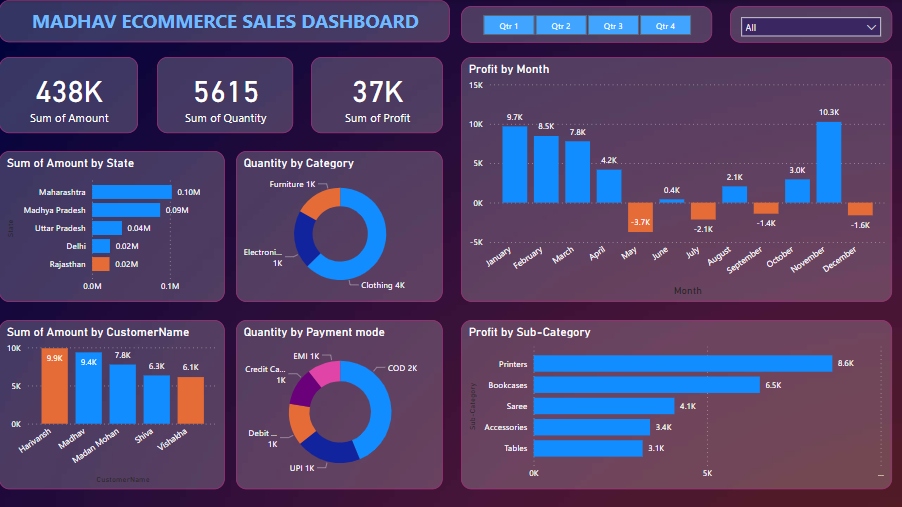

The page's visual inventory and layout, read from the dashboard file:
{"tool":"powerbi","page":{"name":"Page 1","canvas":[1280,720],"ordinal":0},"visuals":[{"type":"textbox","box":[0,0,639.4,60.5],"z":0},{"type":"columnChart","title":"Profit by Month","fields":{"Y":["Details.Profit"],"Category":["Orders.Order Date.Variation.Date Hierarchy.Month"]},"box":[654.8,80.8,610.9,347.2],"z":1000},{"type":"barChart","title":"Profit by Sub-Category","fields":{"Y":["Details.Profit"],"Category":["Details.Sub-Category"]},"box":[654.8,453.5,610.9,239.5],"z":2000},{"type":"donutChart","title":"Quantity by Category","fields":{"Y":["Details.Quantity"],"Category":["Details.Category"]},"box":[335.9,214,293.4,214],"z":2001},{"type":"donutChart","title":"Quantity by Payment mode","fields":{"Y":["Details.Quantity"],"Category":["Details.PaymentMode"]},"box":[335.9,453.5,293.4,239.5],"z":2002},{"type":"card","fields":{"Values":["Details.Amount"]},"box":[0,80.8,197,107.7],"z":2003},{"type":"card","fields":{"Values":["Details.Quantity"]},"box":[223.9,80.8,192.8,107.7],"z":2004},{"type":"card","fields":{"Values":["Details.Profit"]},"box":[442.2,80.8,187.1,107.7],"z":2005},{"type":"barChart","title":"Sum of Amount by State","fields":{"Category":["Orders.State"],"Y":["Details.Amount"]},"box":[0,214,320.3,214],"z":2006},{"type":"columnChart","fields":{"Category":["Orders.CustomerName"],"Y":["Details.Amount"]},"box":[0,454,320,240],"z":2007},{"type":"slicer","fields":{"Values":["Orders.Order Date.Variation.Date Hierarchy.Quarter"]},"box":[654.8,8.5,355.7,52.4],"z":2008},{"type":"slicer","fields":{"Values":["Orders.State"]},"box":[1036.1,8.5,229.6,52.4],"z":2009}]}

Visuals, with their boxes in screenshot pixels (x1, y1, x2, y2), scaled from the page's 1280x720 canvas onto the 902x507 screenshot:
textbox: pyautogui.locateOnScreen(0, 0, 451, 43)
"Profit by Month" columnChart: pyautogui.locateOnScreen(461, 57, 892, 301)
"Profit by Sub-Category" barChart: pyautogui.locateOnScreen(461, 319, 892, 488)
"Quantity by Category" donutChart: pyautogui.locateOnScreen(237, 151, 443, 301)
"Quantity by Payment mode" donutChart: pyautogui.locateOnScreen(237, 319, 443, 488)
card - Details.Amount: pyautogui.locateOnScreen(0, 57, 139, 133)
card - Details.Quantity: pyautogui.locateOnScreen(158, 57, 294, 133)
card - Details.Profit: pyautogui.locateOnScreen(312, 57, 443, 133)
"Sum of Amount by State" barChart: pyautogui.locateOnScreen(0, 151, 226, 301)
columnChart - Orders.CustomerName x Details.Amount: pyautogui.locateOnScreen(0, 320, 226, 489)
slicer - Orders.Order Date.Variation.Date Hierarchy.Quarter: pyautogui.locateOnScreen(461, 6, 712, 43)
slicer - Orders.State: pyautogui.locateOnScreen(730, 6, 892, 43)
